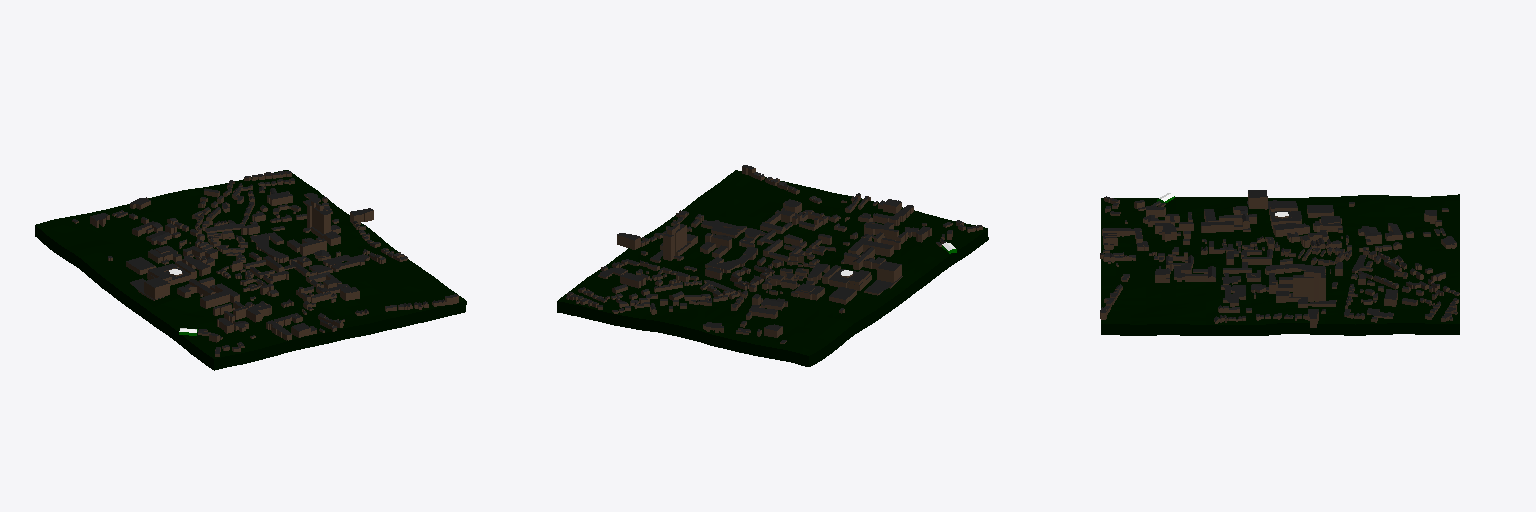
Rendered from mapboxCampusNoPaths.obj.
The picture shows the model from 3 angles: view 1: azimuth 30°, elevation 25°; view 2: azimuth 150°, elevation 25°; view 3: azimuth 270°, elevation 25°; orthographic projection.
Parts seen in each view (by area): view 1: Terrain, map_2.osm_buildings; view 2: Terrain, map_2.osm_buildings; view 3: Terrain, map_2.osm_buildings.
Part boxes in pixels (left/top/right/bottom): Terrain: left=35, top=170, right=466, bottom=370; map_2.osm_buildings: left=72, top=170, right=458, bottom=356; Terrain: left=557, top=170, right=988, bottom=366; map_2.osm_buildings: left=566, top=165, right=982, bottom=343; Terrain: left=1101, top=194, right=1459, bottom=335; map_2.osm_buildings: left=1100, top=190, right=1459, bottom=327.
Bounding box in the file's own units: 636 × 101 × 747.